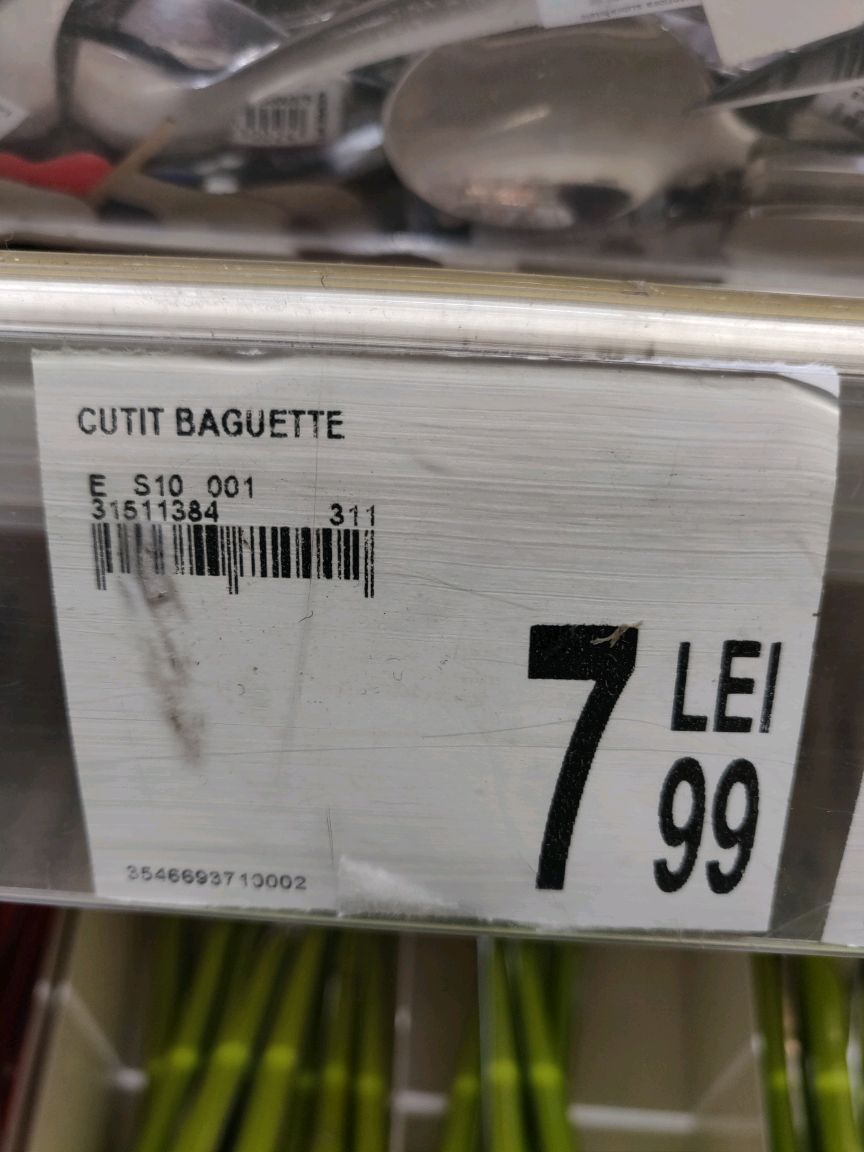price_bani: (637, 749, 773, 923)
price_lei: (468, 611, 651, 912)
price_tag: (16, 323, 833, 978)
product_id: (106, 851, 324, 903)
product_name: (62, 395, 386, 442)
